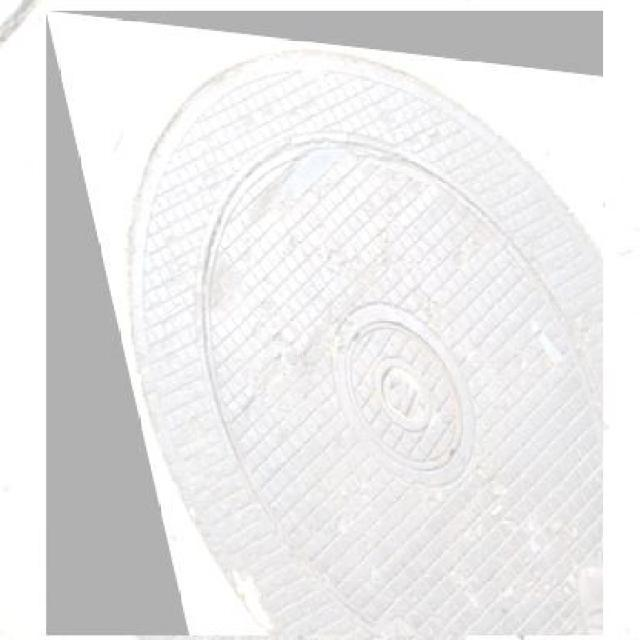Manhole: (46, 11, 603, 636)
